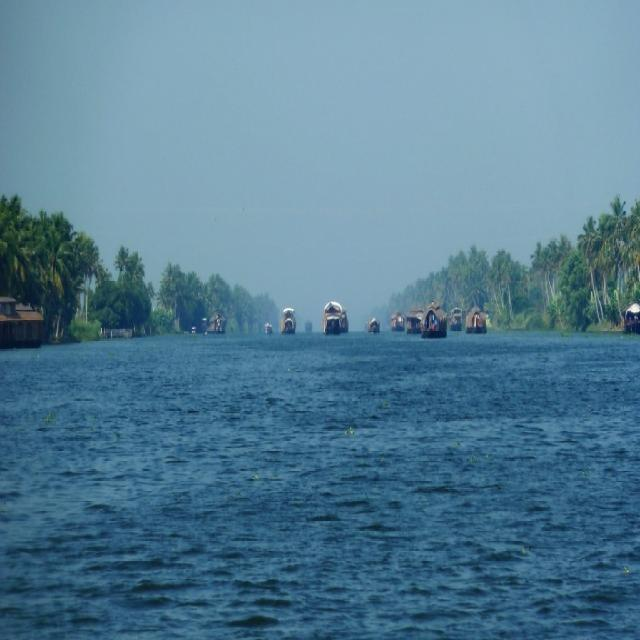boat: (320, 298, 356, 340), (421, 303, 456, 343), (463, 300, 494, 338), (361, 312, 387, 335), (280, 308, 298, 337), (302, 320, 315, 336), (262, 322, 274, 336)
